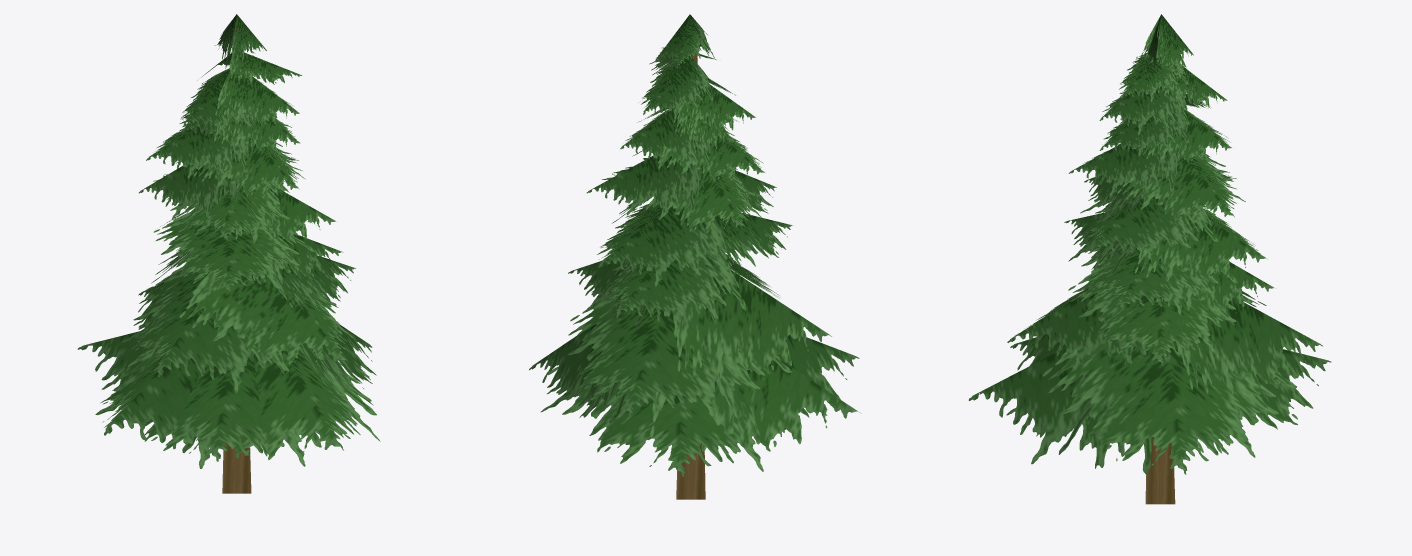
Rendered from pinetree.fbx.
The picture shows the model from 3 angles, left to right: view 1: azimuth 30°, elevation 25°; view 2: azimuth 150°, elevation 25°; view 3: azimuth 270°, elevation 25°; orthographic projection. The views are drawn at different scales.
Parts seen in each view (by area): view 1: l1_treeevermed_Shape; view 2: l1_treeevermed_Shape; view 3: l1_treeevermed_Shape.
Part boxes in pixels (x1=…): l1_treeevermed_Shape: x1=77, y1=14, x2=380, y2=493; l1_treeevermed_Shape: x1=529, y1=14, x2=861, y2=499; l1_treeevermed_Shape: x1=968, y1=14, x2=1331, y2=504.
Size of the model in its own units: 526 by 693 by 591.
